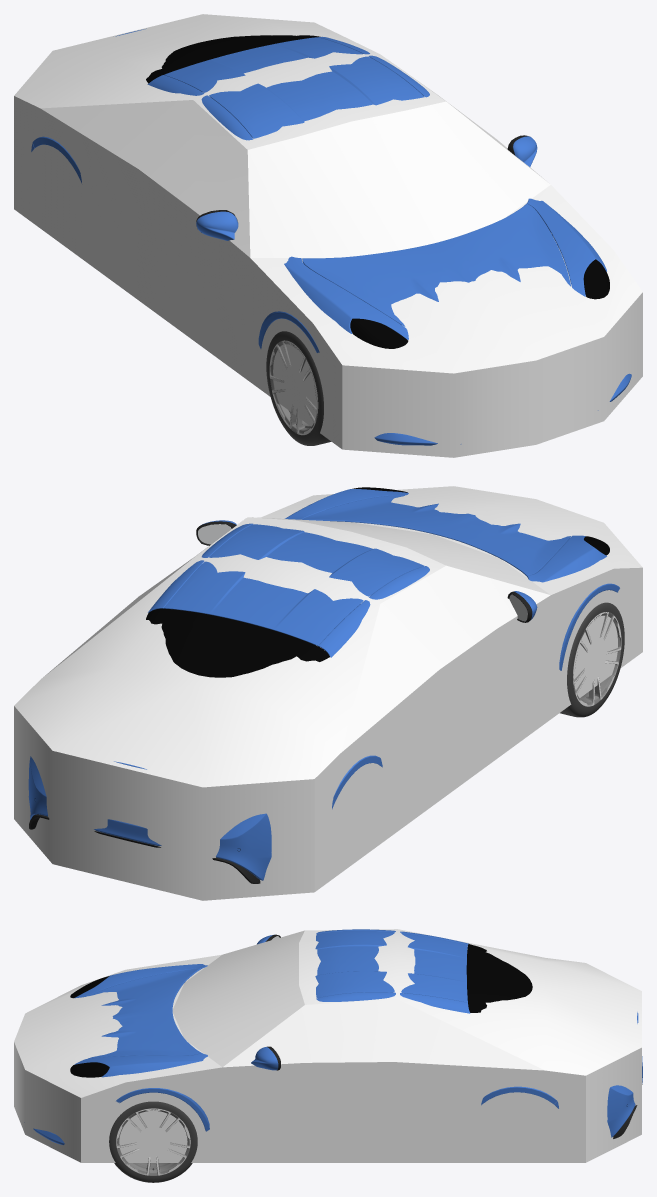
The model's file is alpine.glb.
3 renders of one model, top to bottom at view 1: azimuth 30°, elevation 25°; view 2: azimuth 150°, elevation 25°; view 3: azimuth 270°, elevation 25°, orthographic. The views are drawn at different scales.
Parts seen in each view (by area): view 1: shape, body, body2, glass, glass2, pneu001, wheel_r; view 2: shape, body, glass, body2, pneu001, wheel_r, gums, chrom_1; view 3: shape, body, body2, glass, pneu, wheel_l, glass2.
Boxes of the visible parts, left/top/right/bottom form: shape: left=14, top=14, right=642, bottom=457; body: left=31, top=28, right=570, bottom=326; body2: left=258, top=198, right=631, bottom=445; glass: left=146, top=35, right=320, bottom=83; glass2: left=350, top=259, right=609, bottom=348; pneu001: left=266, top=331, right=331, bottom=445; wheel_r: left=269, top=340, right=318, bottom=435; shape: left=14, top=486, right=642, bottom=900; body: left=28, top=495, right=570, bottom=880; glass: left=146, top=608, right=329, bottom=677; body2: left=285, top=489, right=619, bottom=670; pneu001: left=560, top=602, right=624, bottom=717; wheel_r: left=573, top=612, right=621, bottom=706; gums: left=29, top=521, right=532, bottom=883; chrom_1: left=198, top=524, right=527, bottom=621; shape: left=14, top=929, right=641, bottom=1162; body: left=88, top=929, right=642, bottom=1137; body2: left=24, top=964, right=209, bottom=1145; glass: left=466, top=944, right=532, bottom=1012; pneu: left=109, top=1101, right=197, bottom=1182; wheel_l: left=116, top=1108, right=190, bottom=1175; glass2: left=70, top=976, right=109, bottom=1077.
Bounding box in the file's own units: 1.99 × 1.26 × 4.2.
